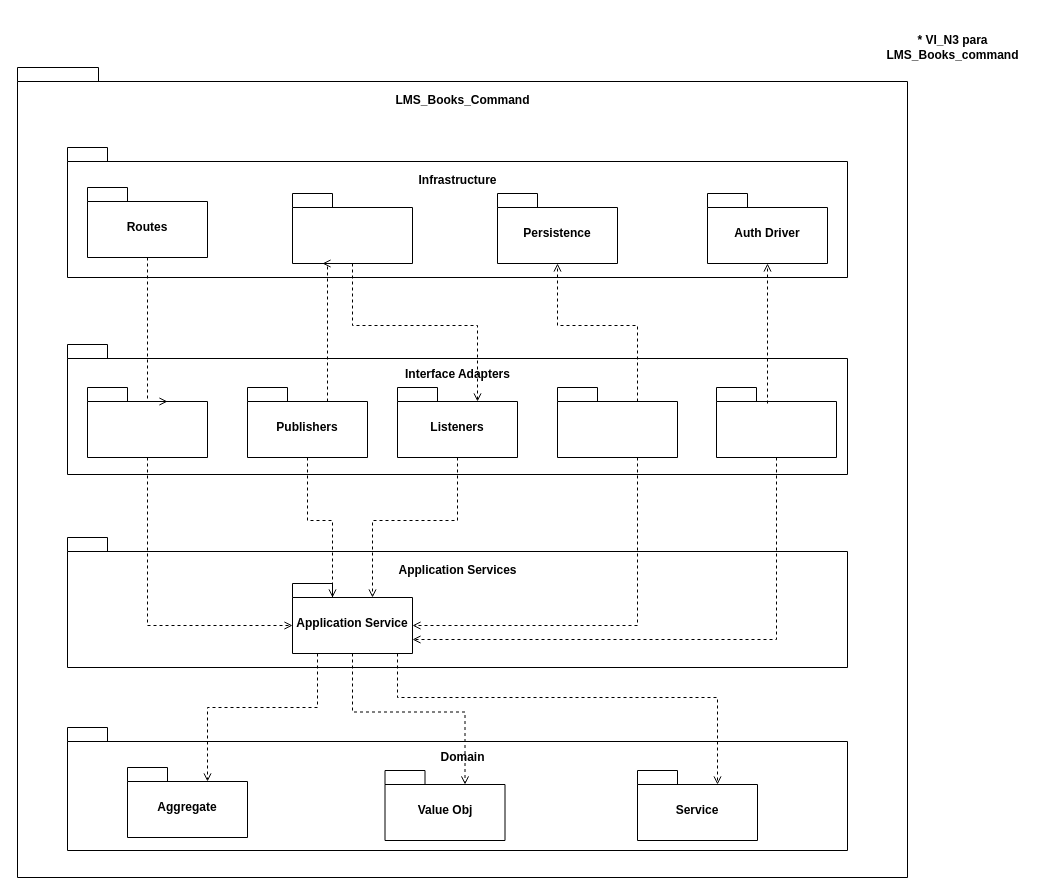
Image size: 1045x895. Some labels were removed from this diagram. Each missing label, with the box of its shape:
Auth Provider: (716, 386, 836, 458)
Controllers: (86, 386, 208, 458)
Message Broker Driver: (292, 192, 412, 264)
Repos: (556, 386, 678, 458)
